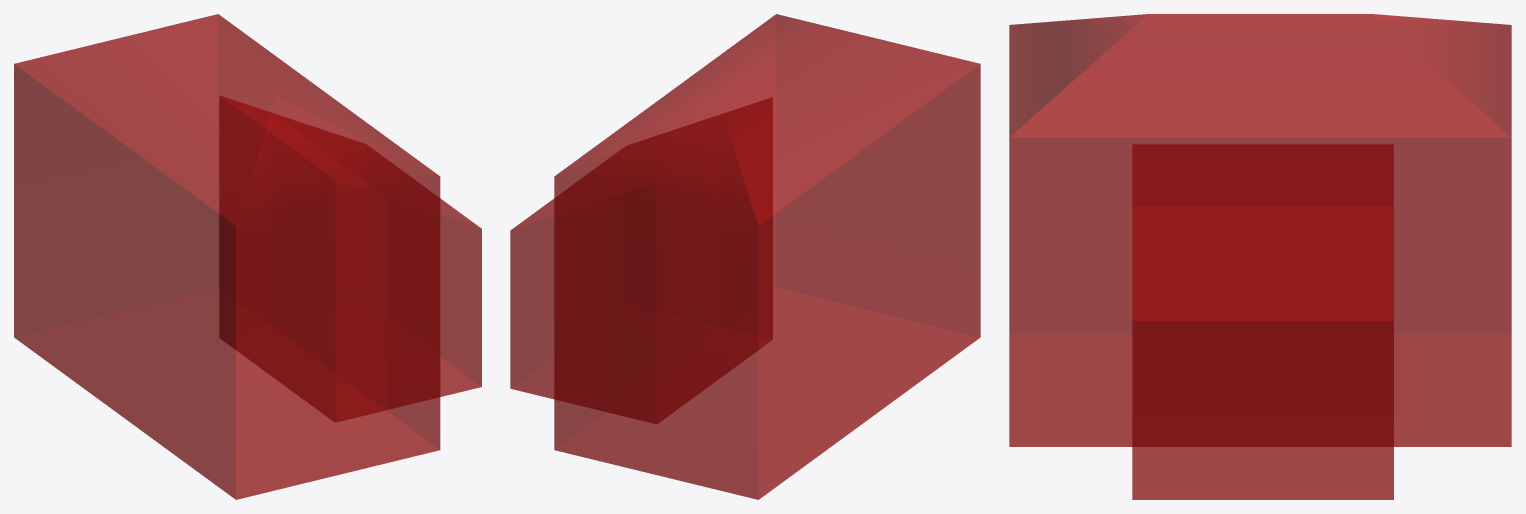
Rendered from SM_Bld_House_Preset_09_COLLISION.fbx.
3 views of the same model, side by side, from view 1: azimuth 30°, elevation 25°; view 2: azimuth 150°, elevation 25°; view 3: azimuth 270°, elevation 25° (orthographic). The views are drawn at different scales.
Parts seen in each view (by area): view 1: SM_Bld_House_Preset_09_COLLISION; view 2: SM_Bld_House_Preset_09_COLLISION; view 3: SM_Bld_House_Preset_09_COLLISION.
Boxes of the visible parts, left/top/right/bottom form: SM_Bld_House_Preset_09_COLLISION: left=14, top=14, right=481, bottom=499; SM_Bld_House_Preset_09_COLLISION: left=510, top=14, right=980, bottom=499; SM_Bld_House_Preset_09_COLLISION: left=1009, top=14, right=1511, bottom=499.
Bounding box in the file's own units: 825 × 875 × 1057.
